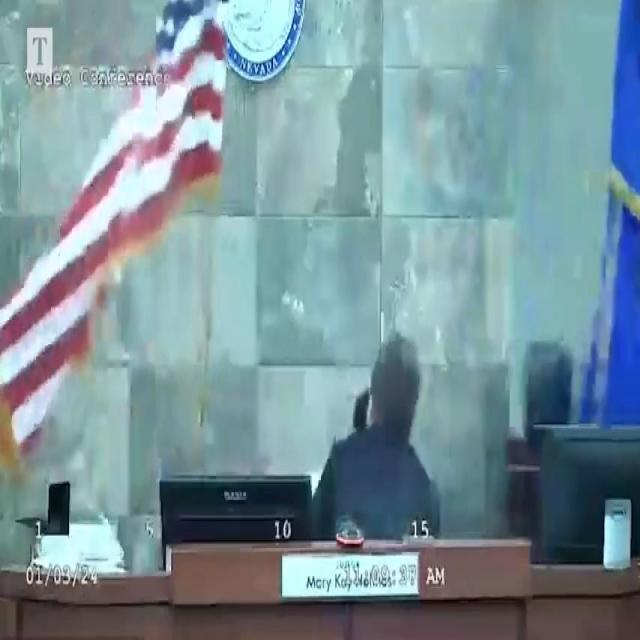non-fight: (313, 322, 446, 534)
